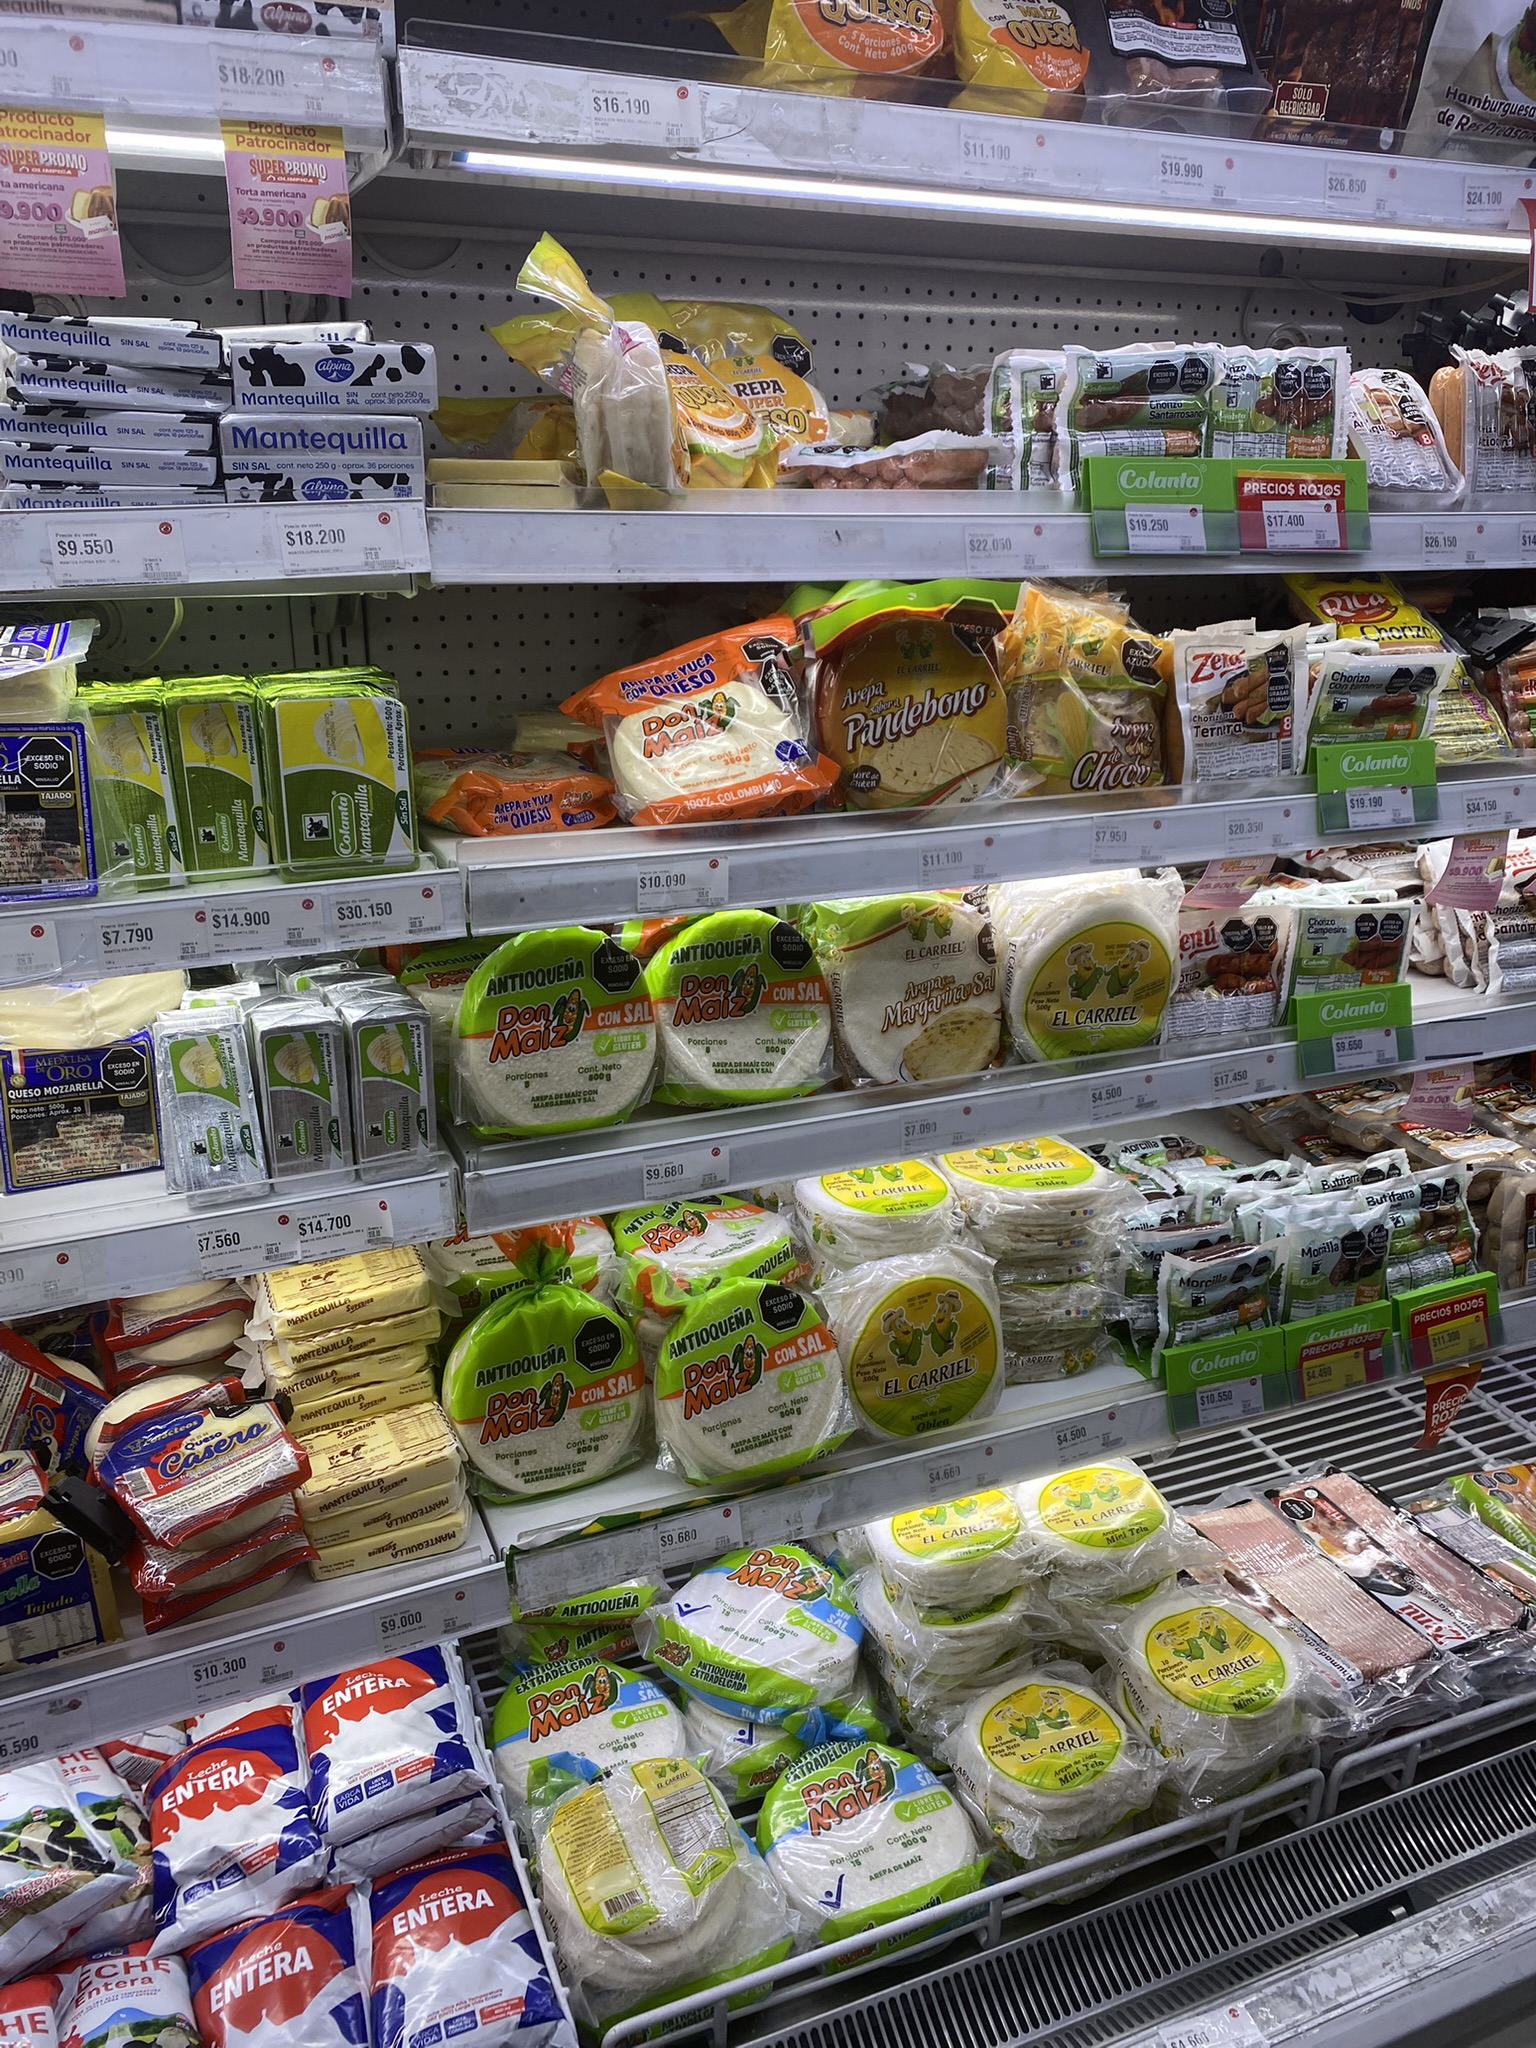Arepa: (500, 1759, 755, 1977), (813, 1253, 1004, 1430), (1012, 882, 1184, 1063), (962, 1682, 1129, 1825), (1152, 1566, 1275, 1732), (958, 1118, 1092, 1245), (874, 1479, 1031, 1569), (803, 1155, 954, 1245), (1023, 1471, 1176, 1555)
